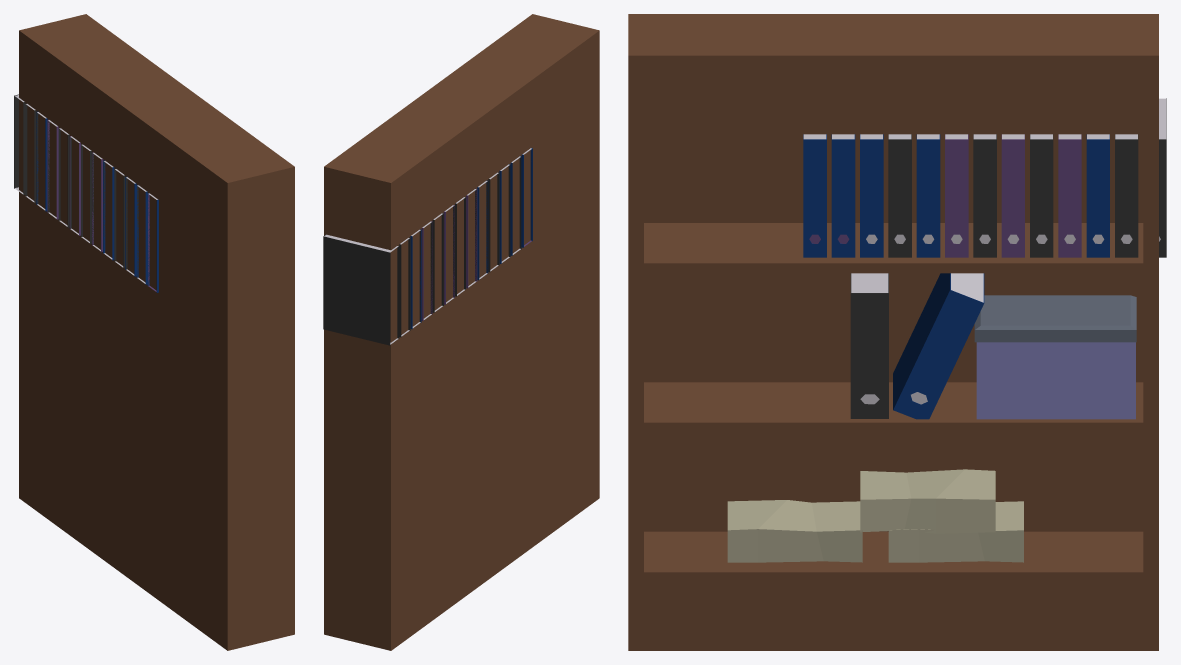
The model's file is cabinet10.fbx.
3 renders of one model, left to right at view 1: azimuth 30°, elevation 25°; view 2: azimuth 150°, elevation 25°; view 3: azimuth 270°, elevation 25°, orthographic. The views are drawn at different scales.
Visible parts, largest first — view 1: Cabinet1.030, Book0.016; view 2: Cabinet1.030, Book0.016; view 3: Cabinet1.030, Book0.016, box.004, Cube.208, Cube.206, Book0.018, Book0.017, Cube.207.
Part boxes in pixels (x1,y1,x2,y2): Cabinet1.030: [19, 14, 294, 650]; Book0.016: [14, 94, 158, 292]; Cabinet1.030: [324, 14, 599, 650]; Book0.016: [323, 148, 532, 345]; Cabinet1.030: [628, 14, 1158, 650]; Book0.016: [803, 98, 1166, 257]; box.004: [974, 295, 1136, 419]; Cube.208: [860, 469, 995, 533]; Cube.206: [727, 500, 862, 562]; Book0.018: [893, 273, 984, 419]; Book0.017: [850, 273, 888, 418]; Cube.207: [888, 501, 1023, 562].
Size of the model in its own units: 0.1617 by 1.05 by 0.8571.
